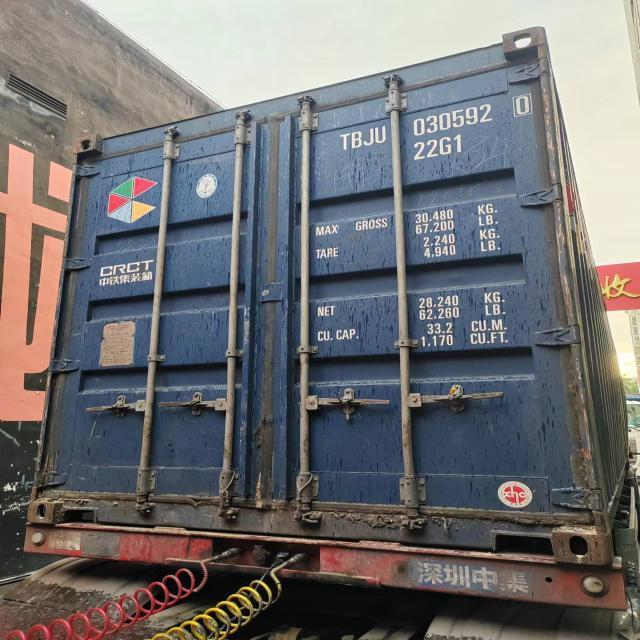ISO: (405, 136, 462, 165)
container_number: (340, 96, 530, 151)
